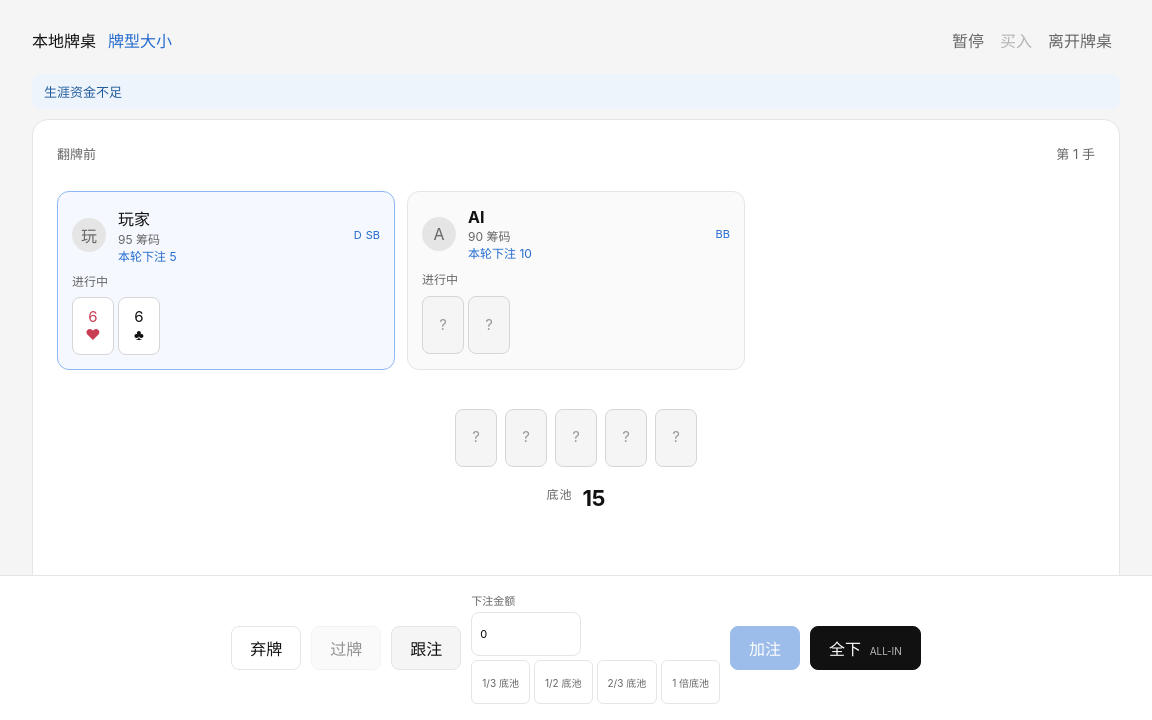
Test: 牌型大小提示 › shows short-deck ranking and special rules
What coordinates should you click on to do the following:
click the button "牌型大小"
I would click on:
 (140, 40)
Its box is [100,20,180,60].
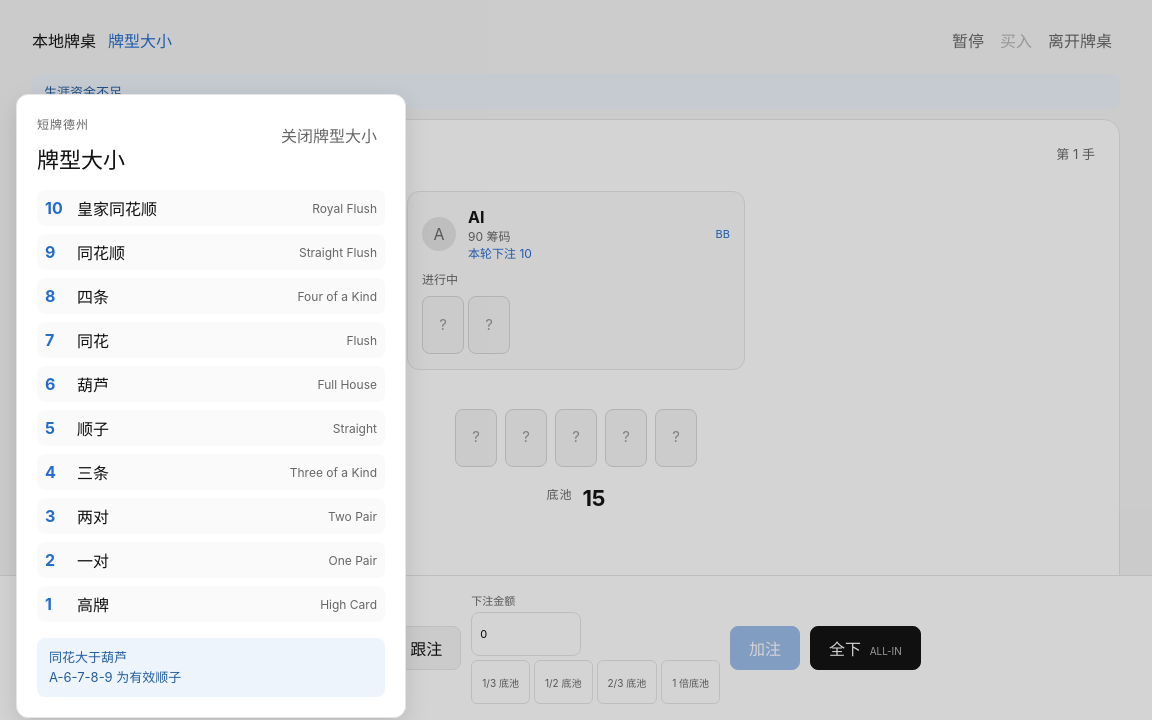
Check: the dialog shows "同花大于葫芦", box [49,649,127,665]
Check: the dialog shows "A-6-7-8-9", box [49,668,181,684]
